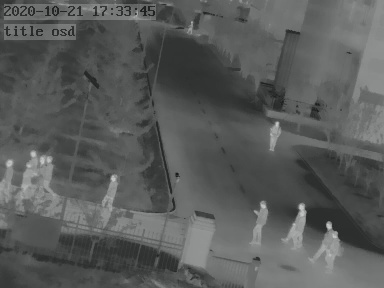person: (283, 200, 306, 247), (19, 152, 39, 198), (40, 153, 59, 200), (314, 220, 332, 267), (250, 197, 266, 244), (1, 156, 17, 203), (325, 230, 342, 269), (102, 171, 118, 212), (268, 117, 281, 152), (187, 19, 195, 34)
